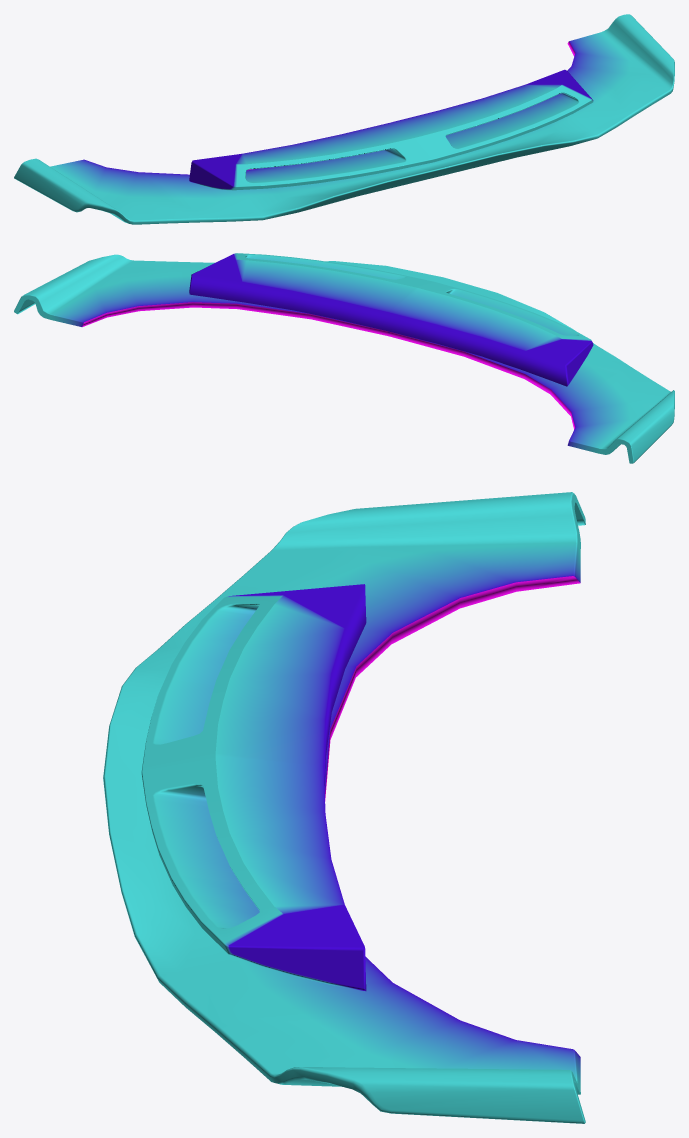
Rendered from Car_Ford_GT_2017_Splitter_SetBC.fbx.
3 views of the same model, one above another, from view 1: azimuth 30°, elevation 25°; view 2: azimuth 150°, elevation 25°; view 3: azimuth 270°, elevation 25° (orthographic). The views are drawn at different scales.
Visible parts, largest first — view 1: Splitter 6; view 2: Splitter 6; view 3: Splitter 6.
Boxes of the visible parts, left/top/right/bottom form: Splitter 6: left=14, top=14, right=674, bottom=224; Splitter 6: left=14, top=253, right=674, bottom=463; Splitter 6: left=103, top=492, right=585, bottom=1123.
Size of the model in its own units: 2.07 by 0.1103 by 0.6962.
